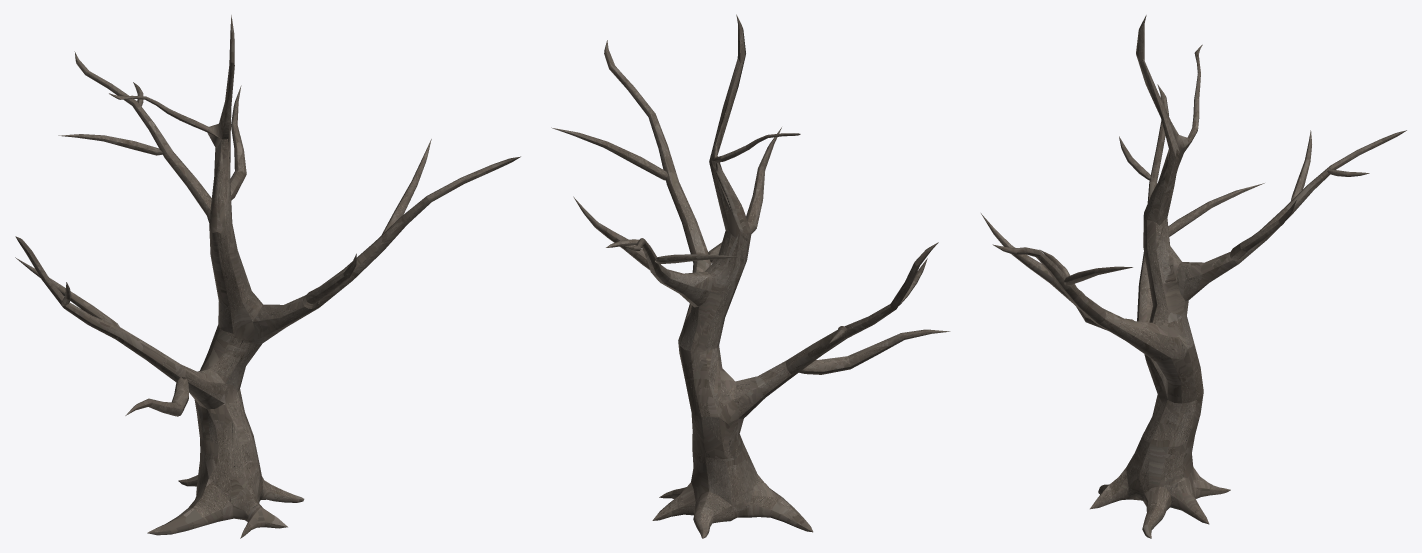
The model's file is DeadTree_02.FBX.
3 views of the same model, side by side, from view 1: azimuth 30°, elevation 25°; view 2: azimuth 150°, elevation 25°; view 3: azimuth 270°, elevation 25° (orthographic). The views are drawn at different scales.
Visible parts, largest first — view 1: DeadTree2; view 2: DeadTree2; view 3: DeadTree2.
Part boxes in pixels (<box>): DeadTree2: <box>15,15,520,538</box>; DeadTree2: <box>551,14,950,538</box>; DeadTree2: <box>981,15,1406,538</box>.
Size of the model in its own units: 29.77 by 34.15 by 27.04.
1 material, 1 textured.
